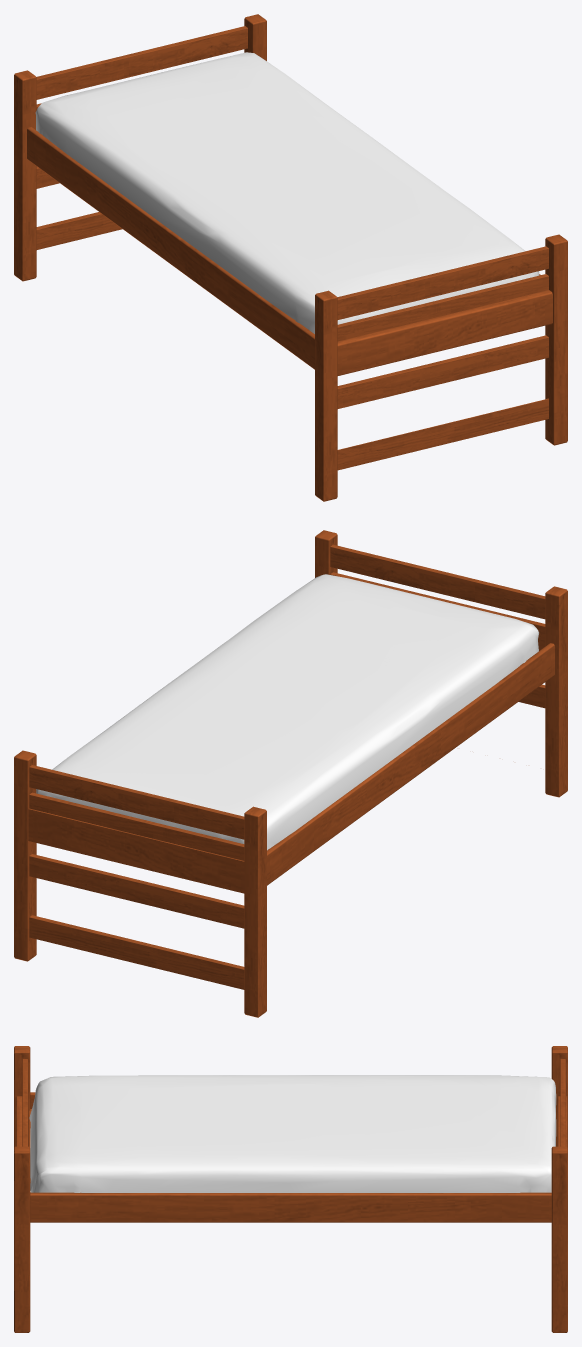
Rendered from bed_single.glb.
3 views of the same model, one above another, from view 1: azimuth 30°, elevation 25°; view 2: azimuth 150°, elevation 25°; view 3: azimuth 270°, elevation 25° (orthographic). The views are drawn at different scales.
Parts seen in each view (by area): view 1: bed_mattress_5, bed_5; view 2: bed_mattress_5, bed_5; view 3: bed_mattress_5, bed_5.
Part boxes in pixels (x1,y1,x2,y2): bed_mattress_5: [35, 52, 539, 333]; bed_5: [14, 14, 567, 501]; bed_mattress_5: [36, 574, 538, 850]; bed_5: [14, 530, 567, 1017]; bed_mattress_5: [29, 1075, 556, 1192]; bed_5: [14, 1046, 567, 1332].
Bounding box in the file's own units: 1.06 × 0.8387 × 2.33.
2 materials, 1 textured.
